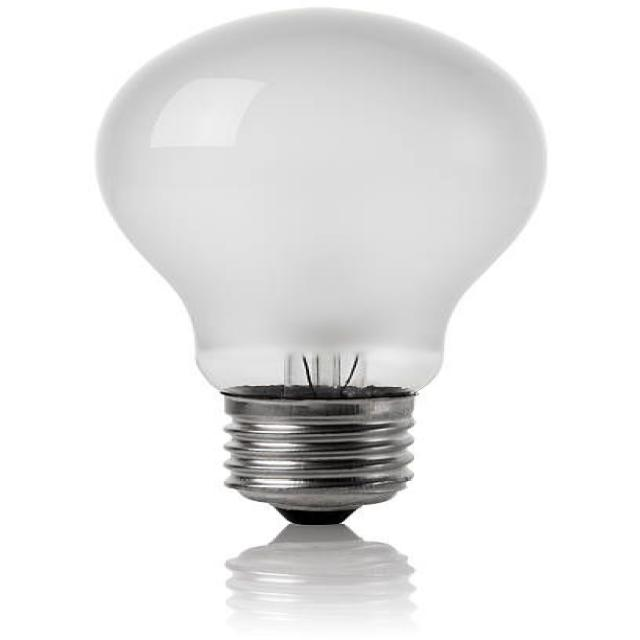electronic: (92, 5, 548, 526)
